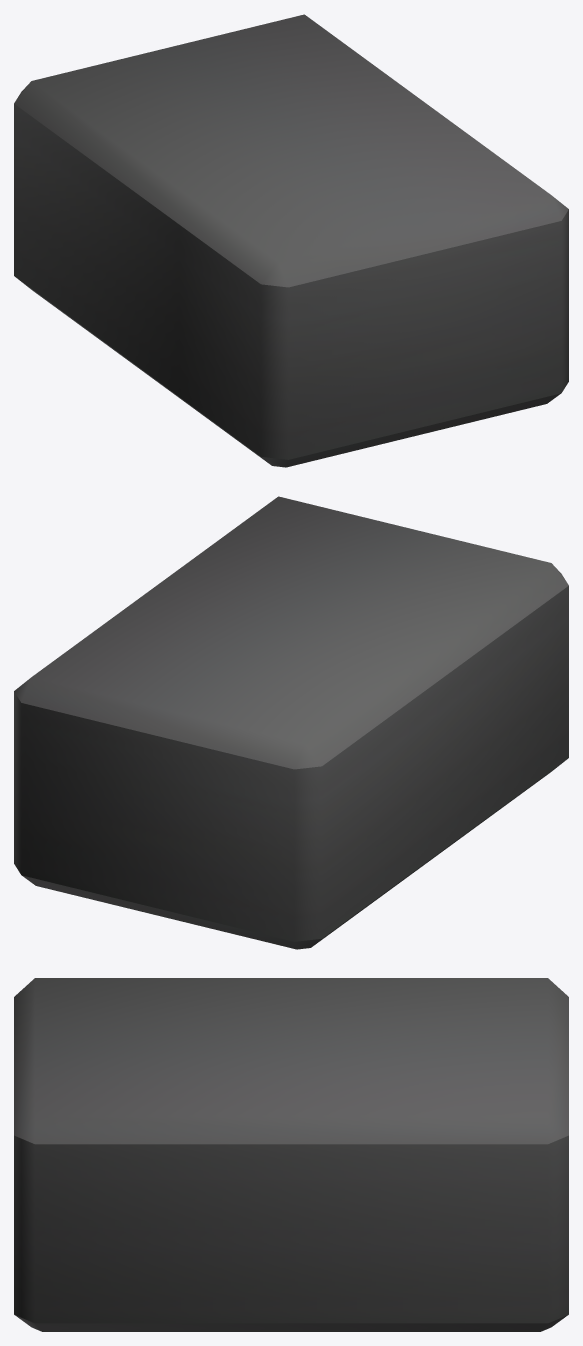
File: StoneBlock_3_1.obj
3 renders of one model, top to bottom at view 1: azimuth 30°, elevation 25°; view 2: azimuth 150°, elevation 25°; view 3: azimuth 270°, elevation 25°, orthographic. The views are drawn at different scales.
Visible parts, largest first — view 1: StoneBlock_3_1; view 2: StoneBlock_3_1; view 3: StoneBlock_3_1.
Part boxes in pixels (x1,y1,x2,y2): StoneBlock_3_1: (14,14,568,467); StoneBlock_3_1: (14,496,568,949); StoneBlock_3_1: (14,978,568,1331).
Bounding box in the file's own units: 0.4641 × 0.2967 × 0.6973.
